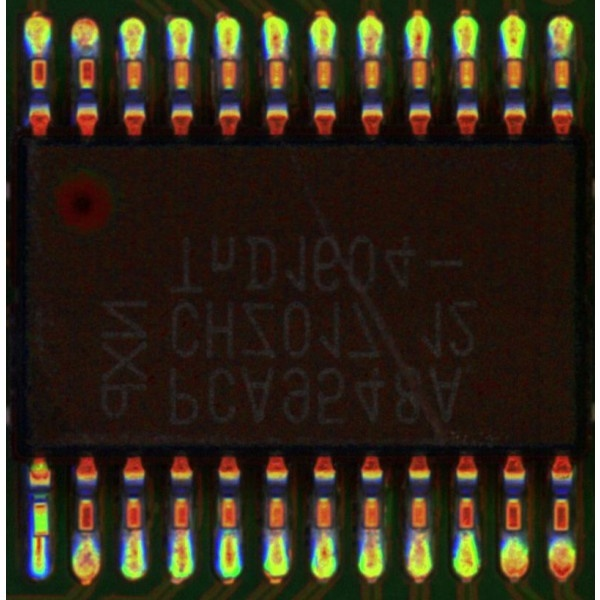Bad_podu: (315, 40, 332, 69), (413, 42, 426, 74), (459, 43, 473, 72), (176, 39, 189, 70), (365, 40, 378, 71), (555, 43, 568, 72), (270, 40, 283, 69), (318, 516, 331, 544), (365, 515, 377, 545), (413, 516, 424, 548), (128, 42, 139, 71), (176, 519, 187, 546), (271, 518, 282, 545), (128, 518, 138, 547), (35, 525, 46, 546)
